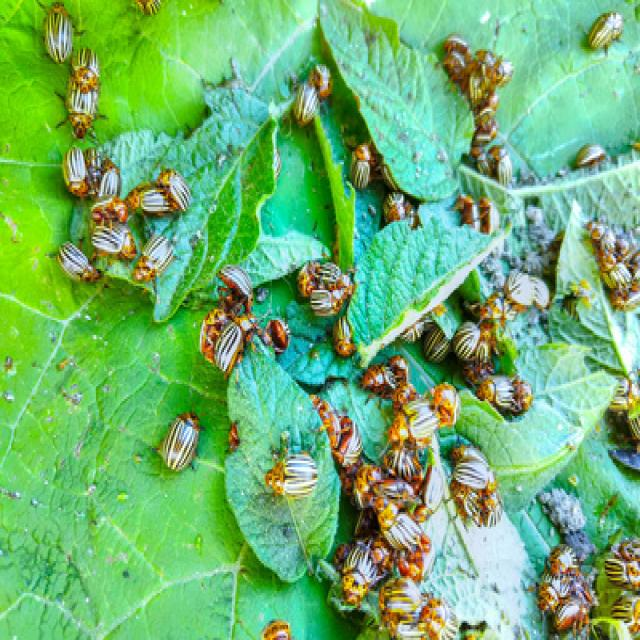ShuCaiHuaBanChong-Grown-: (152, 398, 208, 484), (271, 445, 327, 506), (475, 368, 539, 419), (46, 234, 104, 290), (288, 59, 336, 126), (214, 255, 266, 313), (129, 179, 191, 226), (89, 219, 160, 260), (36, 4, 82, 67), (61, 80, 107, 137), (584, 6, 630, 61), (211, 320, 253, 376), (64, 42, 110, 88), (194, 308, 231, 364), (346, 137, 377, 198), (91, 155, 131, 202), (442, 452, 491, 490), (59, 136, 91, 193), (156, 163, 198, 206), (420, 323, 454, 365), (458, 308, 481, 365)
